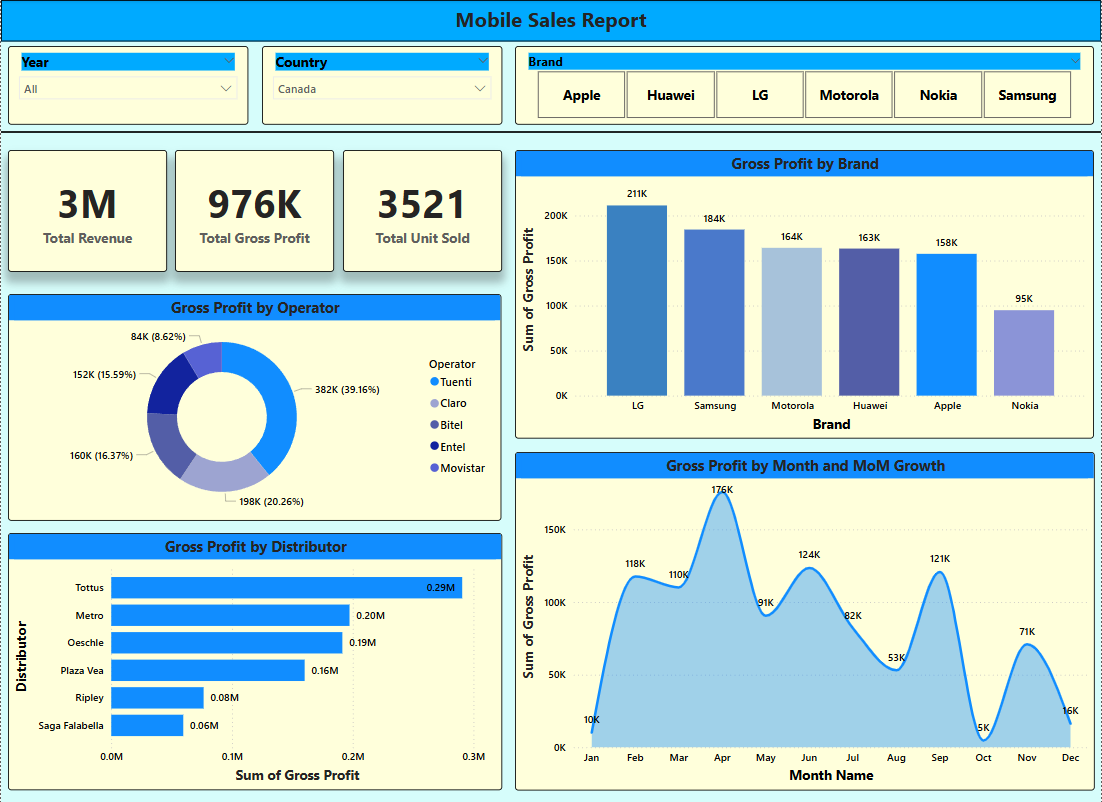

Layout of this report page (visuals, bound fields, positions):
{"tool":"powerbi","page":{"name":"Page 2","canvas":[1300,950],"ordinal":1},"visuals":[{"type":"textbox","box":[0,0,1300,48.8],"z":0},{"type":"slicer","fields":{"Values":["Date Master.Year"]},"box":[8.3,54.4,283.6,93.3],"z":1000},{"type":"slicer","fields":{"Values":["Mobile Sales Data.Country"]},"box":[308.4,54.4,283.6,93.3],"z":2000},{"type":"slicer","fields":{"Values":["Mobile Sales Data.Brand"]},"box":[607.3,54.4,684.1,93.3],"z":3000},{"type":"card","fields":{"Values":["Sum(Mobile Sales Data.Revenue)"]},"box":[8.3,177.2,187.9,144.2],"z":4000},{"type":"card","fields":{"Values":["Sum(Mobile Sales Data.Unit Sold)"]},"box":[404.1,177.2,187.9,144.2],"z":5000},{"type":"card","fields":{"Values":["Sum(Mobile Sales Data.Gross Profit)"]},"box":[205.6,177.2,187.9,144.2],"z":6000},{"type":"donutChart","title":"Gross Profit by Operator","fields":{"Y":["Sum(Mobile Sales Data.Gross Profit)"],"Category":["Mobile Sales Data.Operator"]},"box":[8.8,347.5,582.5,267.5],"z":7000},{"type":"shape","box":[0,147.7,1299.8,16.5],"z":8000},{"type":"clusteredBarChart","title":"Gross Profit by Distributor","fields":{"Y":["Sum(Mobile Sales Data.Gross Profit)"],"Category":["Mobile Sales Data.Distributor"]},"box":[8.8,630,583.8,303.8],"z":9000},{"type":"clusteredColumnChart","title":"Gross Profit by Brand","fields":{"Y":["Sum(Mobile Sales Data.Gross Profit)"],"Category":["Mobile Sales Data.Brand"]},"box":[607.5,177.5,683.8,341.2],"z":10000},{"type":"areaChart","title":"Gross Profit by Month and MoM Growth","fields":{"Y":["Sum(Mobile Sales Data.Gross Profit)"],"Category":["Date Master.Month Name"]},"box":[607.5,533.8,685,400],"z":11000}]}

Visuals, with their boxes in screenshot pixels (x1, y1, x2, y2), scaled from the page's 1300x950 canvas onto the 1102x802 screenshot:
textbox: bbox(0, 0, 1101, 41)
slicer - Date Master.Year: bbox(7, 46, 247, 125)
slicer - Mobile Sales Data.Country: bbox(261, 46, 502, 125)
slicer - Mobile Sales Data.Brand: bbox(515, 46, 1095, 125)
card - Sum(Mobile Sales Data.Revenue): bbox(7, 150, 166, 271)
card - Sum(Mobile Sales Data.Unit Sold): bbox(343, 150, 502, 271)
card - Sum(Mobile Sales Data.Gross Profit): bbox(174, 150, 334, 271)
"Gross Profit by Operator" donutChart: bbox(7, 293, 501, 519)
shape: bbox(0, 125, 1101, 139)
"Gross Profit by Distributor" clusteredBarChart: bbox(7, 532, 502, 788)
"Gross Profit by Brand" clusteredColumnChart: bbox(515, 150, 1095, 438)
"Gross Profit by Month and MoM Growth" areaChart: bbox(515, 451, 1096, 788)
